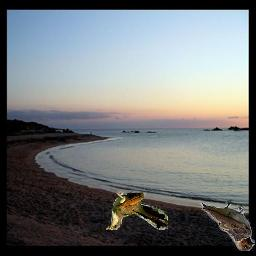Cuckoo: (106, 192, 168, 231)
Swallow: (199, 199, 255, 251)
